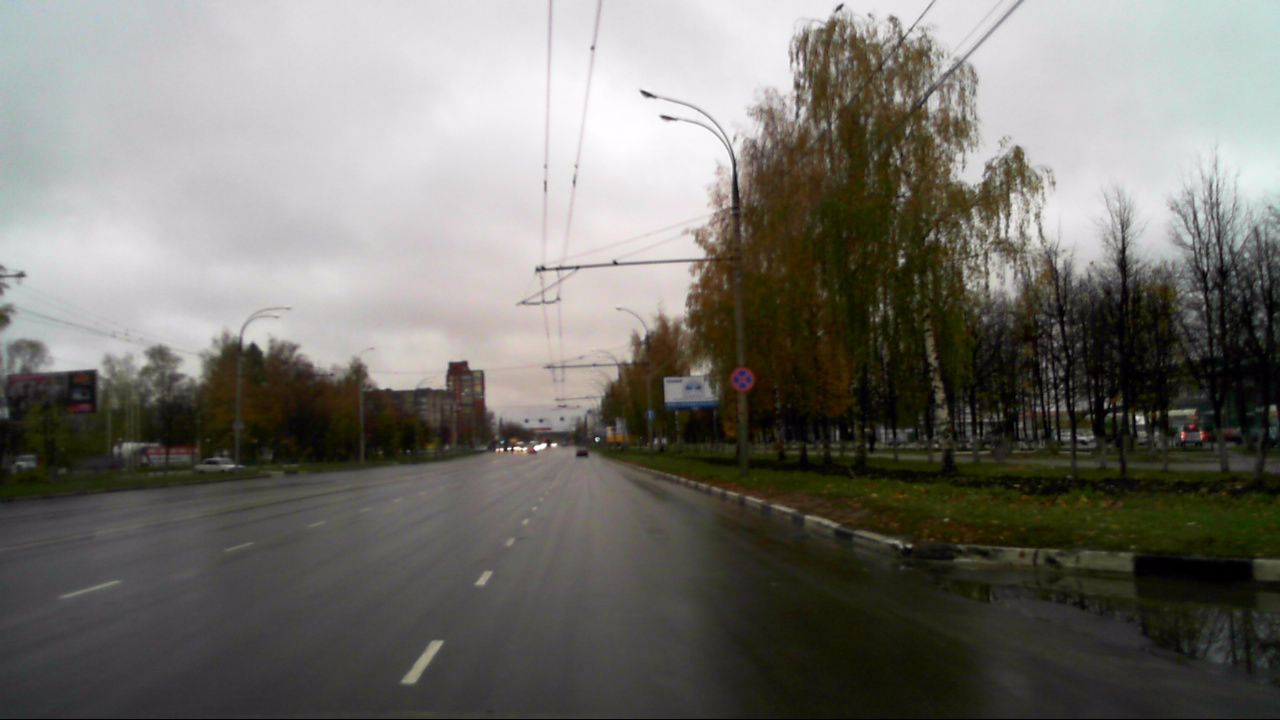No Parking: (730, 366, 754, 391)
